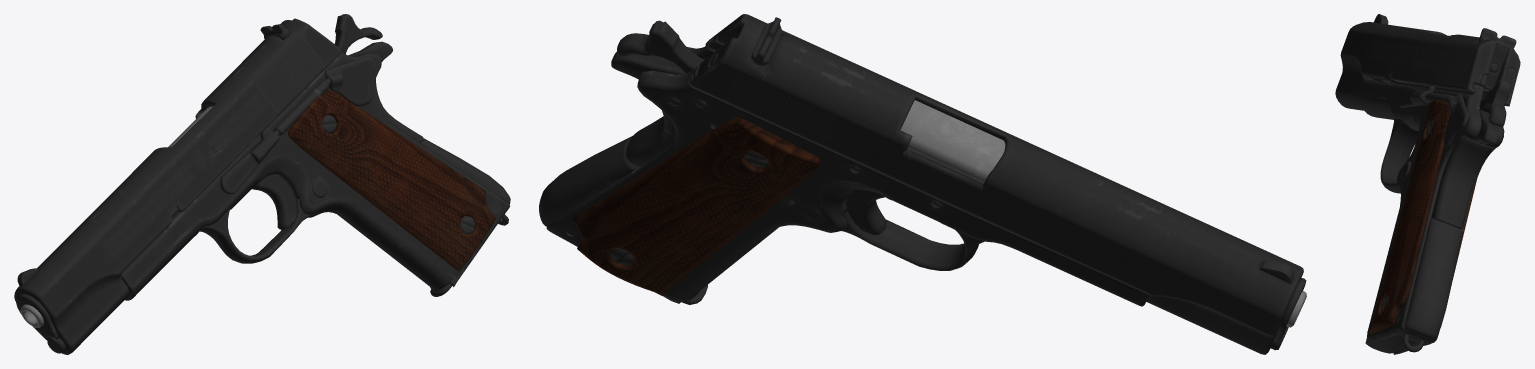
The model's file is pistol-m1911.glb.
The picture shows the model from 3 angles, left to right: view 1: azimuth 30°, elevation 25°; view 2: azimuth 150°, elevation 25°; view 3: azimuth 270°, elevation 25°; orthographic projection. The views are drawn at different scales.
Parts seen in each view (by area): view 1: Object_6, Object_5, Object_4, Object_3; view 2: Object_6, Object_5, Object_4, Object_3; view 3: Object_5, Object_6, Object_4, Object_3.
Boxes of the visible parts, x1,y1,x2,y2 form: Object_6: (14, 14, 475, 354); Object_5: (16, 41, 510, 353); Object_4: (121, 52, 509, 300); Object_3: (260, 24, 497, 211); Object_6: (610, 14, 1306, 354); Object_5: (539, 52, 1306, 350); Object_4: (546, 38, 1148, 306); Object_3: (566, 17, 941, 234); Object_5: (1365, 77, 1499, 353); Object_6: (1335, 14, 1520, 312); Object_4: (1358, 79, 1506, 354); Object_3: (1398, 28, 1516, 321).
Size of the model in its own units: 3.31 by 1.62 by 1.
1 material, 1 textured.
